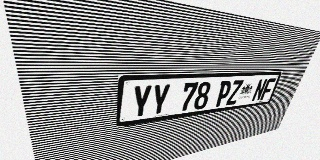7: (178, 82, 199, 112)
8: (193, 81, 213, 110)
F: (260, 78, 276, 100)
N: (251, 79, 268, 102)
P: (214, 80, 233, 107)
Y: (130, 85, 153, 119), (149, 84, 171, 116)
Z: (226, 80, 244, 105)
